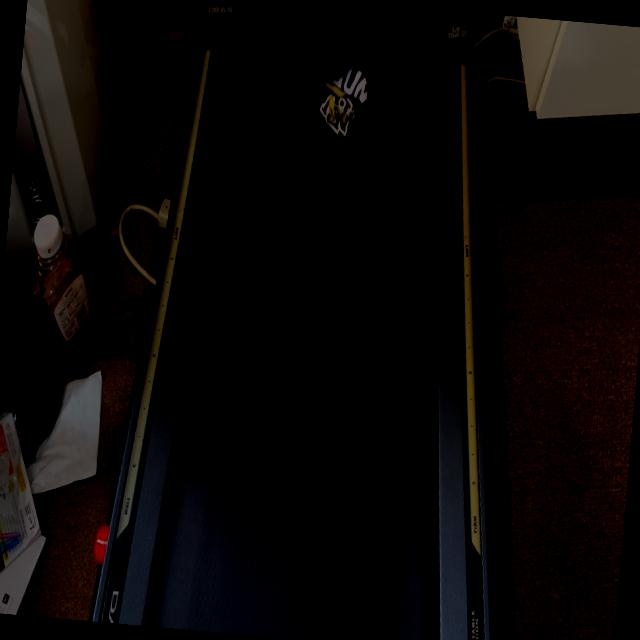Trash: (208, 0, 424, 314)
